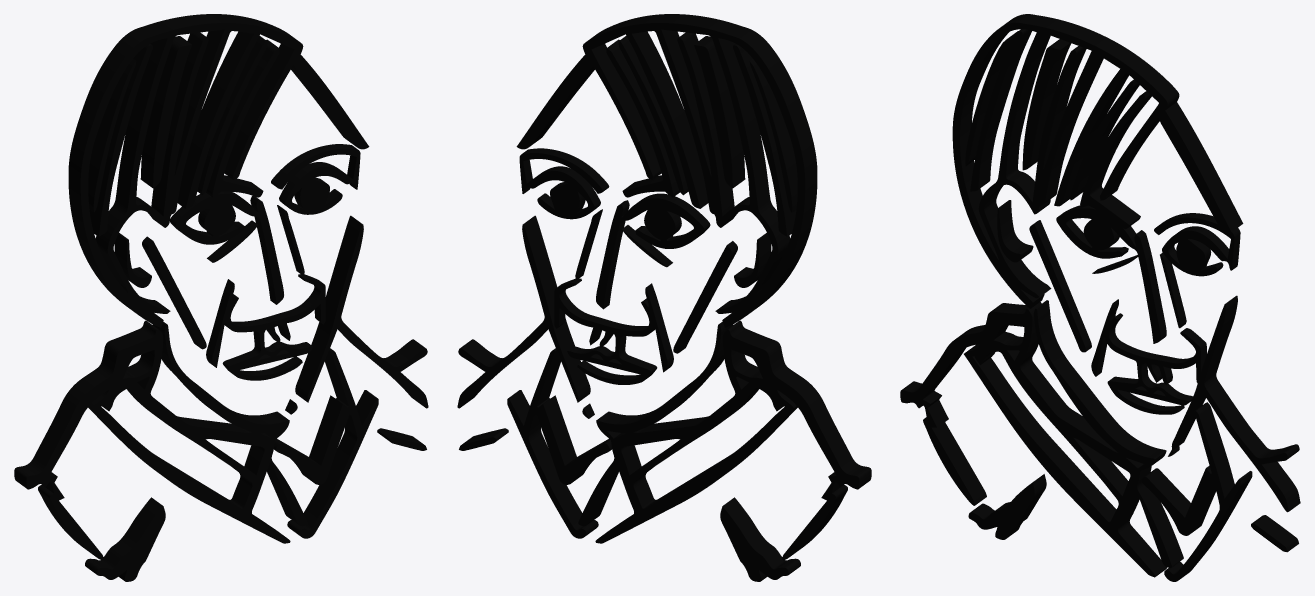
File: picasso.glb
3 renders of one model, left to right at view 1: azimuth 30°, elevation 25°; view 2: azimuth 150°, elevation 25°; view 3: azimuth 330°, elevation 25°, orthographic. The views are drawn at different scales.
Visible parts, largest first — view 1: node_id29, node_id32; view 2: node_id29, node_id32; view 3: node_id29, node_id32.
Boxes of the visible parts, box(x1,y1,x2,y2) form: node_id29: box(14, 14, 428, 581); node_id32: box(142, 144, 360, 414); node_id29: box(457, 14, 871, 581); node_id32: box(519, 148, 737, 418); node_id29: box(900, 14, 1300, 581); node_id32: box(1029, 205, 1240, 456).
Size of the model in its own units: 0.512 by 0.6587 by 0.0269.
2 materials, 2 textured.
